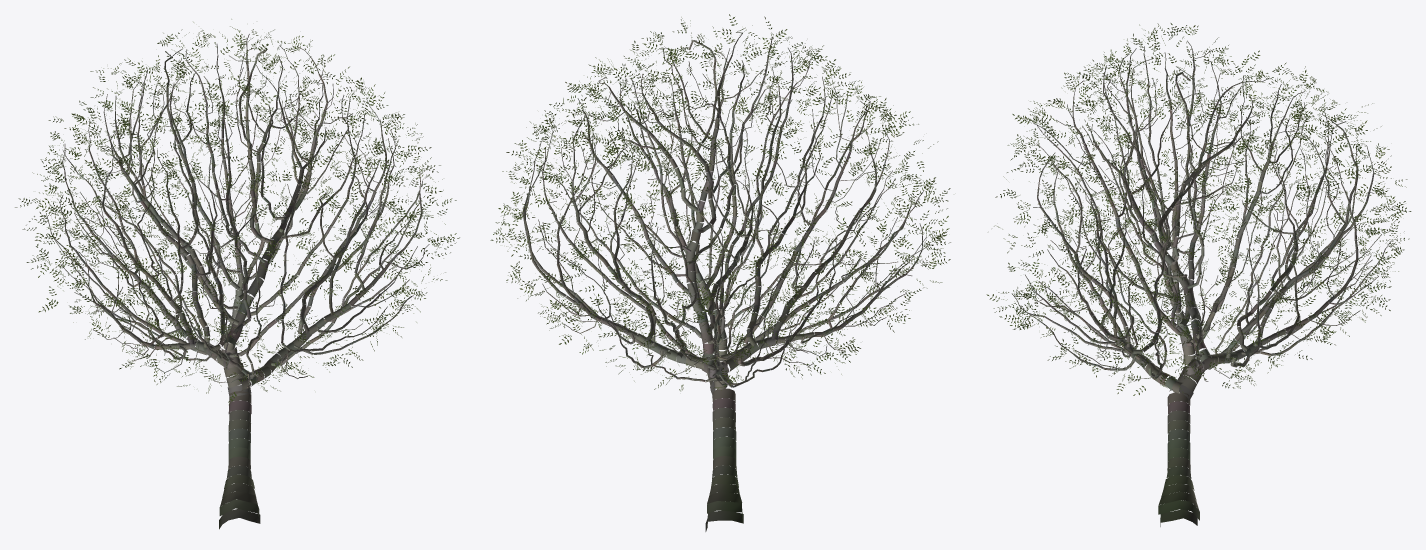
File: SM_Tree_ash_2.glb
3 renders of one model, left to right at view 1: azimuth 30°, elevation 25°; view 2: azimuth 150°, elevation 25°; view 3: azimuth 270°, elevation 25°, orthographic. The views are drawn at different scales.
Parts seen in each view (by area): view 1: SM_Tree_ash_2; view 2: SM_Tree_ash_2; view 3: SM_Tree_ash_2.
Boxes of the visible parts, x1,y1,x2,y2 form: SM_Tree_ash_2: (15, 19, 459, 529); SM_Tree_ash_2: (490, 14, 950, 531); SM_Tree_ash_2: (986, 23, 1411, 526).
Bounding box in the file's own units: 13.31 × 15.76 × 12.41.
